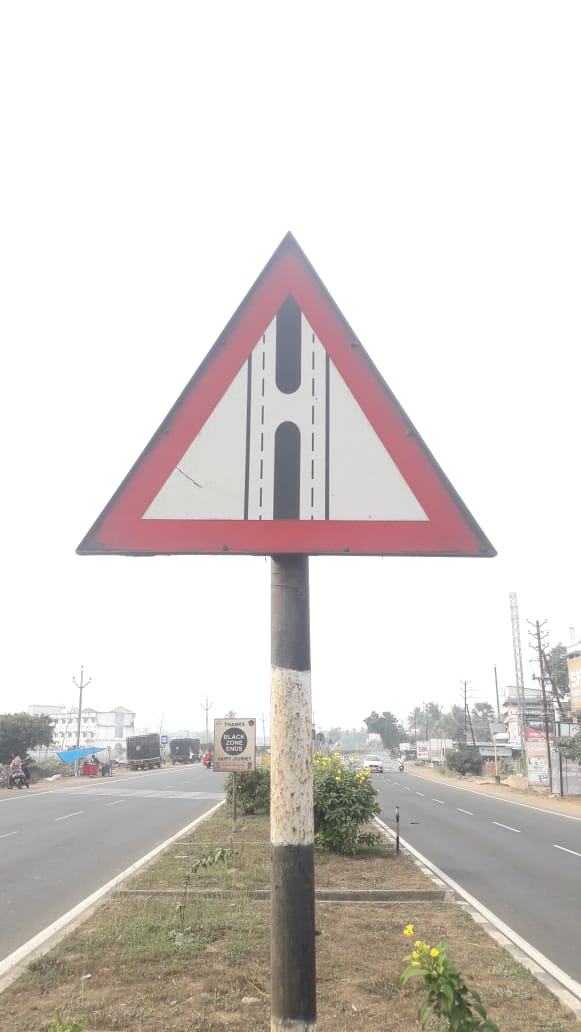highway go straight: (28, 206, 533, 603)
